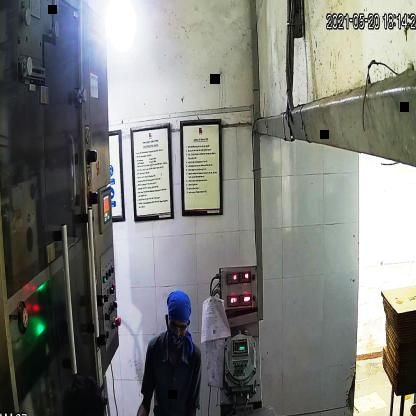goggles: (165, 314, 191, 340)
